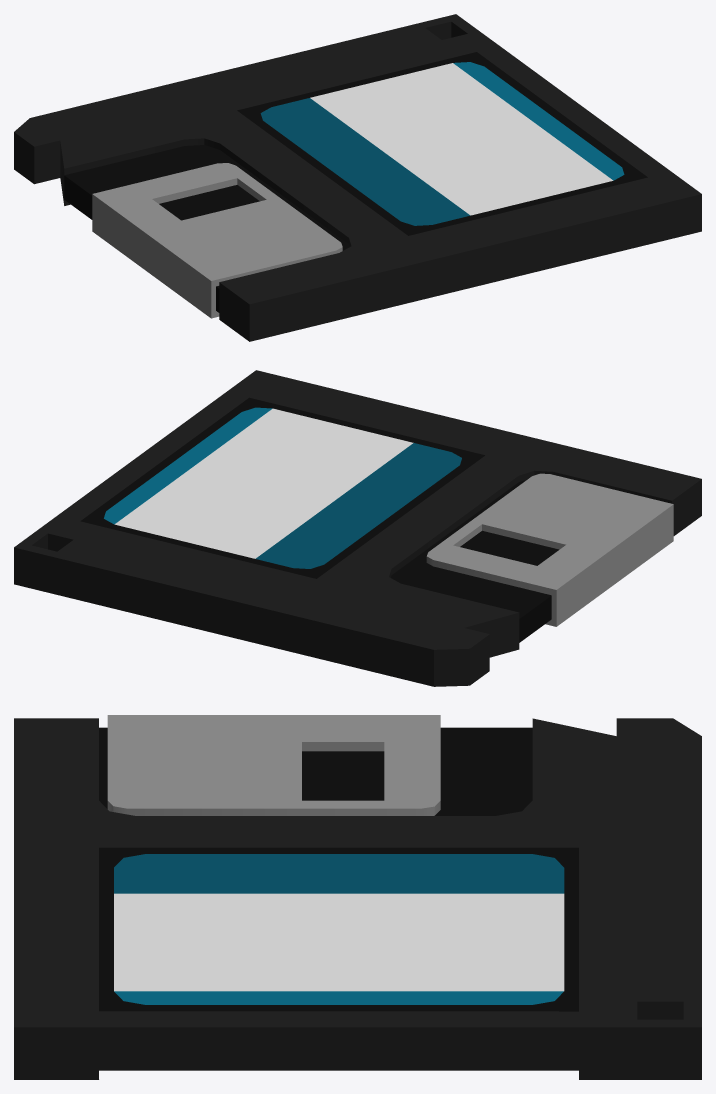
The model's file is data_disk.glb.
3 renders of one model, top to bottom at view 1: azimuth 30°, elevation 25°; view 2: azimuth 150°, elevation 25°; view 3: azimuth 270°, elevation 25°, orthographic. The views are drawn at different scales.
Parts seen in each view (by area): view 1: Mesh_FloppyDisc_01; view 2: Mesh_FloppyDisc_01; view 3: Mesh_FloppyDisc_01.
Part boxes in pixels (left/top/right/bottom): Mesh_FloppyDisc_01: left=14, top=14, right=701, bottom=341; Mesh_FloppyDisc_01: left=14, top=370, right=701, bottom=686; Mesh_FloppyDisc_01: left=14, top=715, right=701, bottom=1079.
Size of the model in its own units: 13.14 by 1.28 by 12.24.
Materials: 1 (1 with a texture image).
